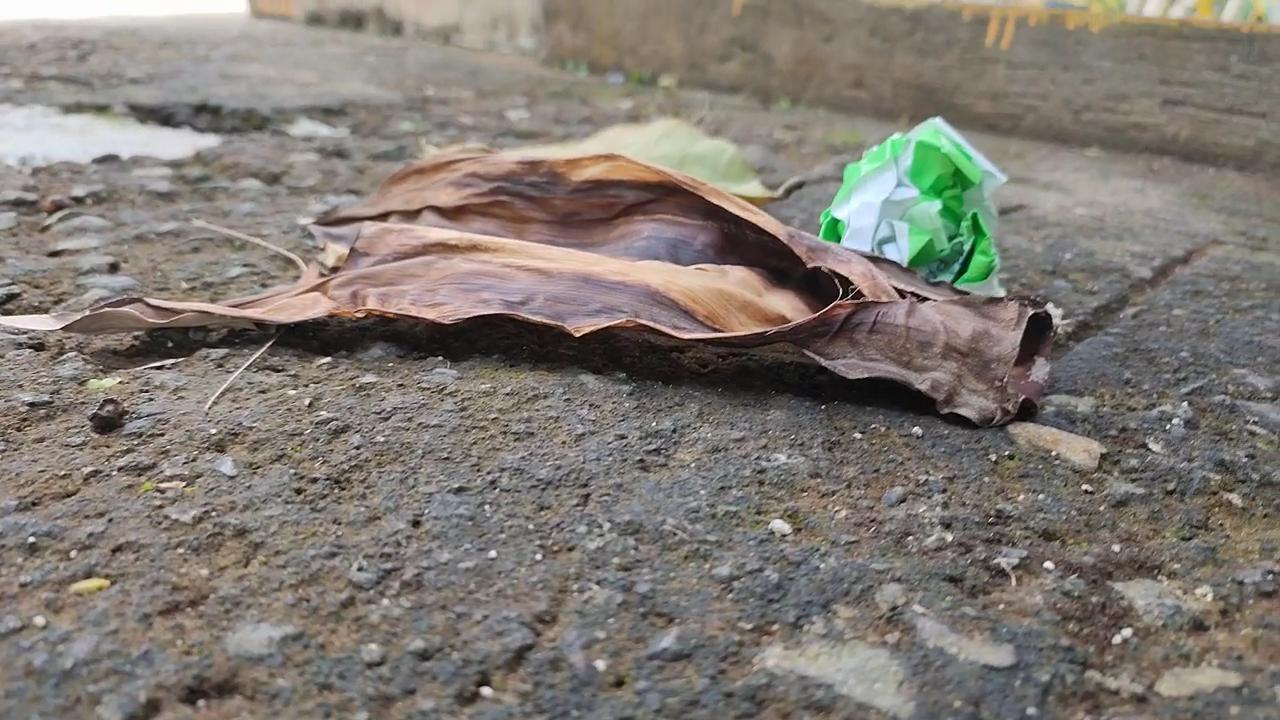Paper: (816, 105, 1022, 312)
